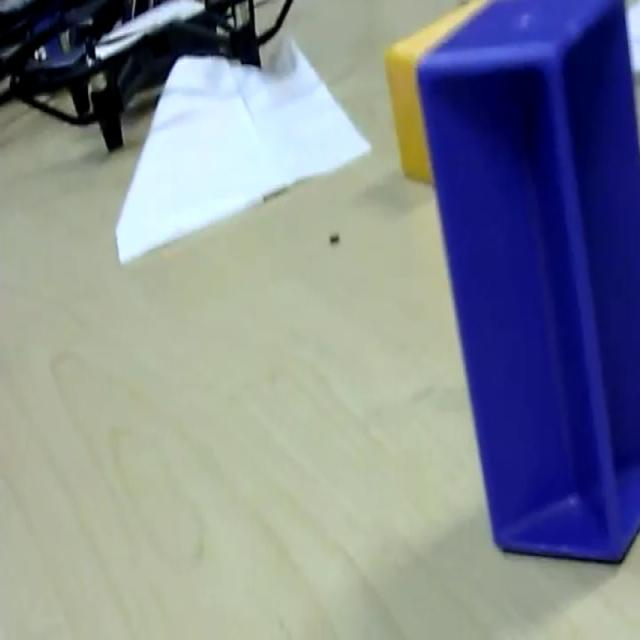blue_block: (416, 0, 638, 564)
yellow_block: (383, 0, 486, 185)
